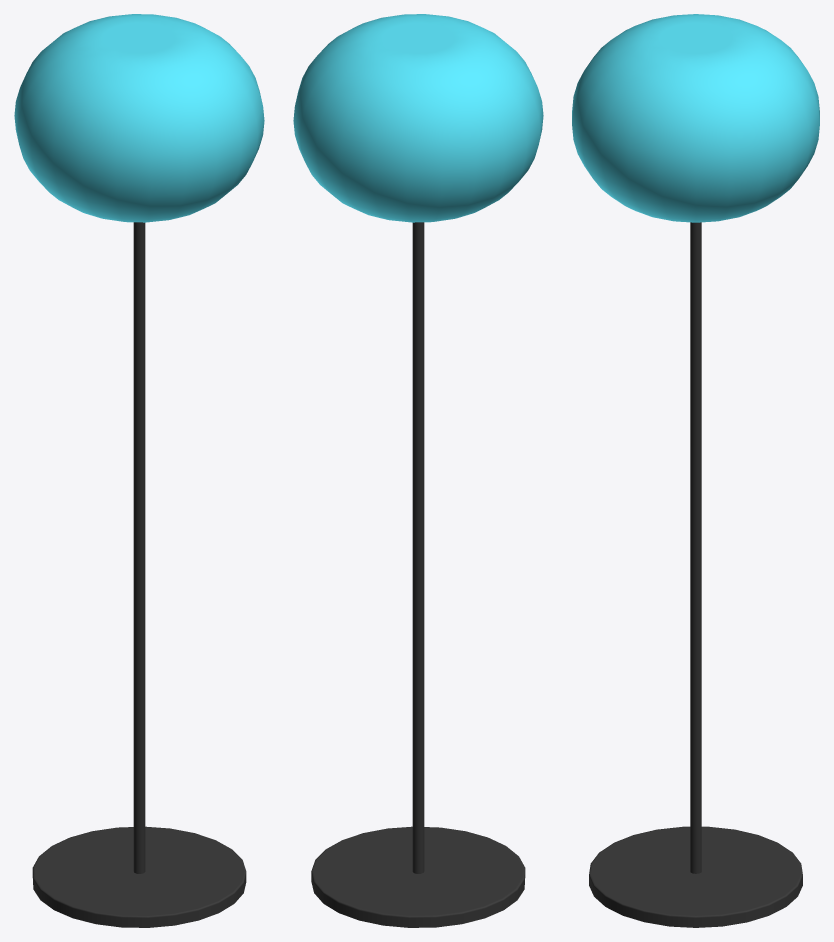
File: SM_FloorLight_002_a.FBX
3 views of the same model, side by side, from view 1: azimuth 30°, elevation 25°; view 2: azimuth 150°, elevation 25°; view 3: azimuth 270°, elevation 25° (orthographic).
Parts seen in each view (by area): view 1: SM_FloorLight_002_a; view 2: SM_FloorLight_002_a; view 3: SM_FloorLight_002_a.
Boxes of the visible parts, <box> form: SM_FloorLight_002_a: <box>14,14,264,927</box>; SM_FloorLight_002_a: <box>293,14,543,927</box>; SM_FloorLight_002_a: <box>572,14,819,927</box>.
Size of the model in its own units: 41.37 by 40.95 by 154.
